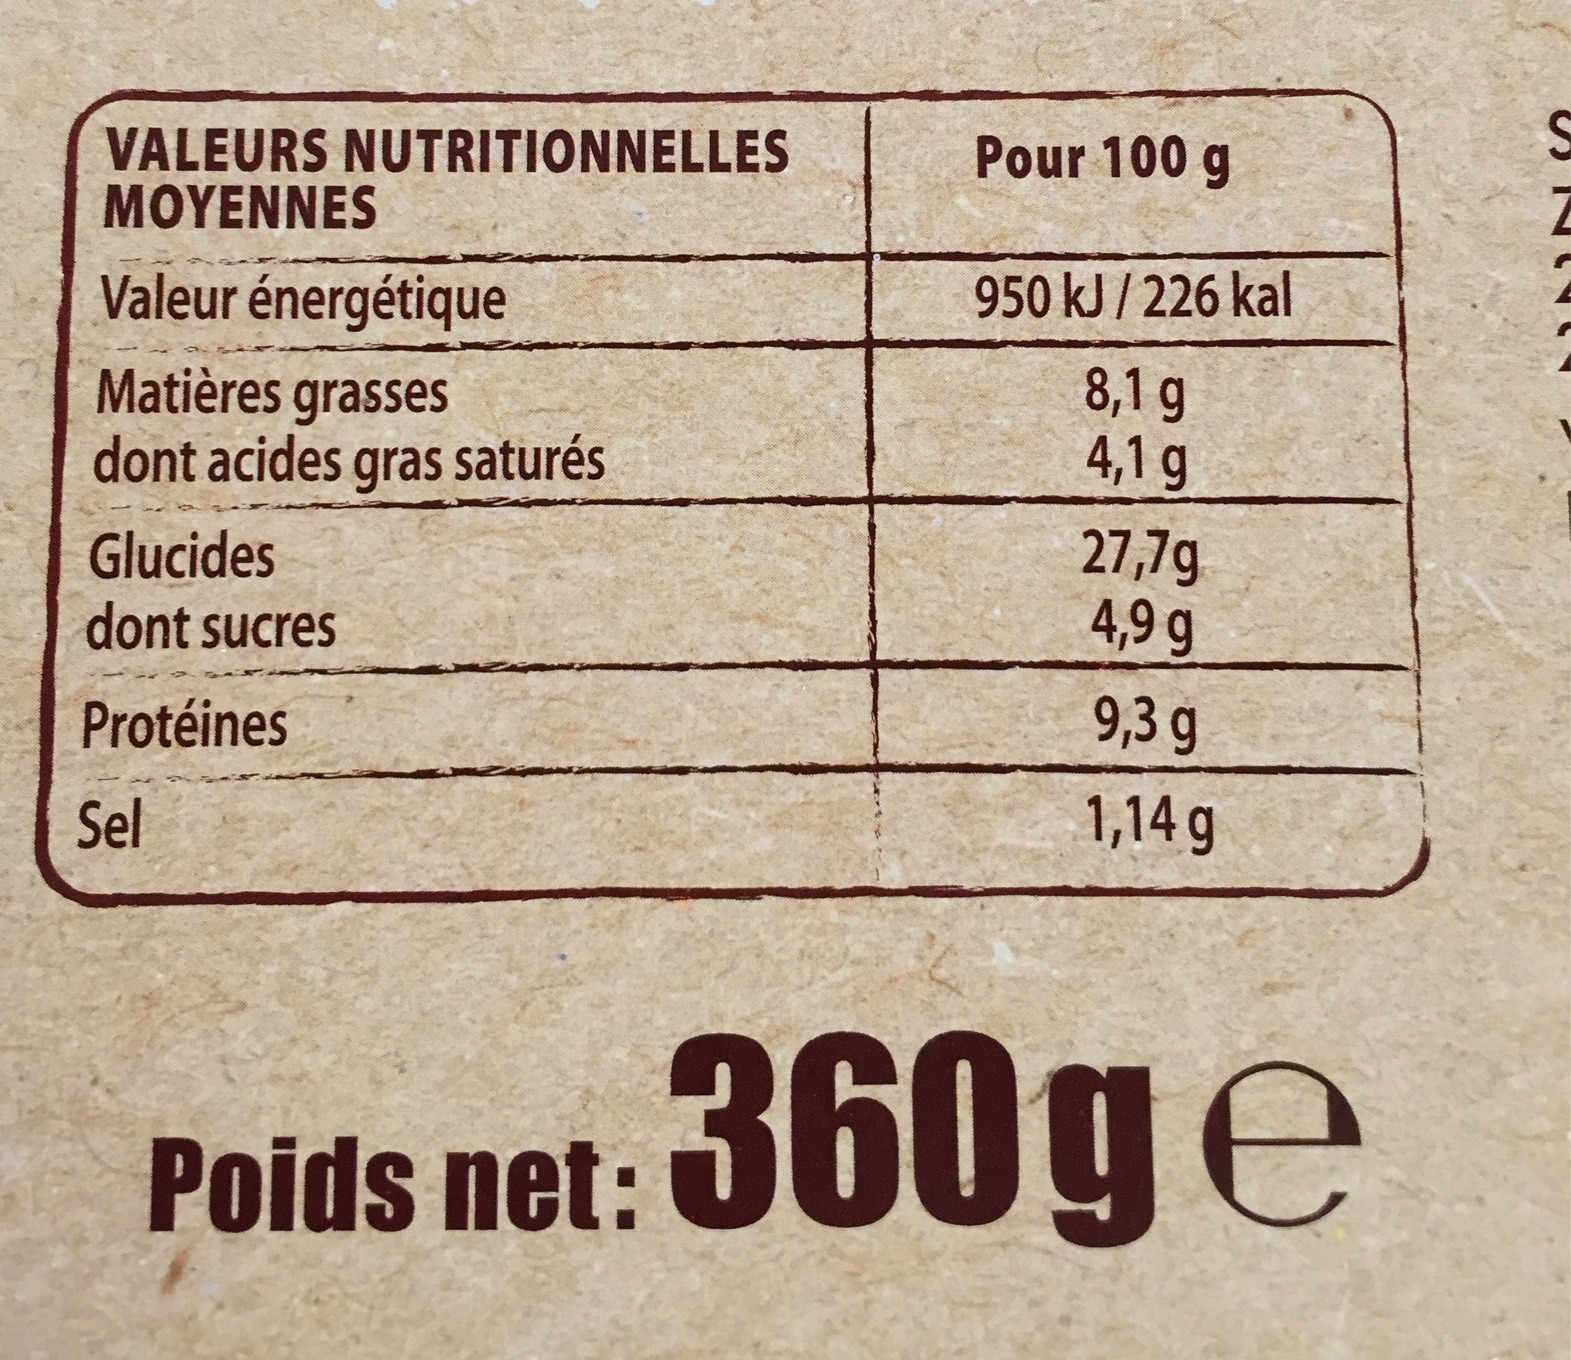column: (72, 122, 795, 872), (969, 134, 1293, 879)
table: (39, 90, 1455, 906)
